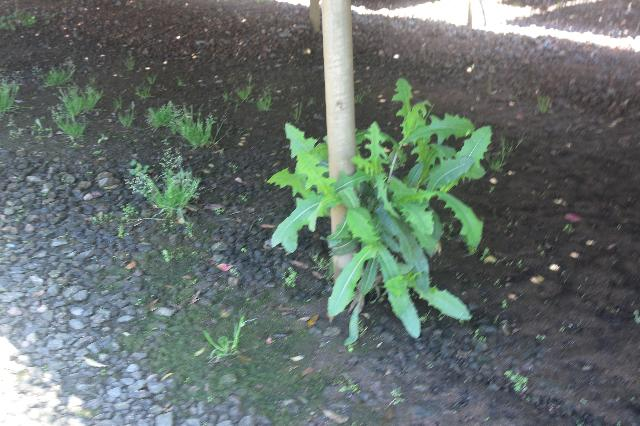MalezaMontesDelPlata: (269, 77, 499, 349), (118, 148, 210, 227), (37, 61, 105, 144), (201, 309, 259, 362), (174, 99, 221, 152), (143, 98, 178, 133), (0, 78, 22, 116)
MusgoMontesDelPlata: (110, 293, 339, 423), (91, 230, 215, 299)
